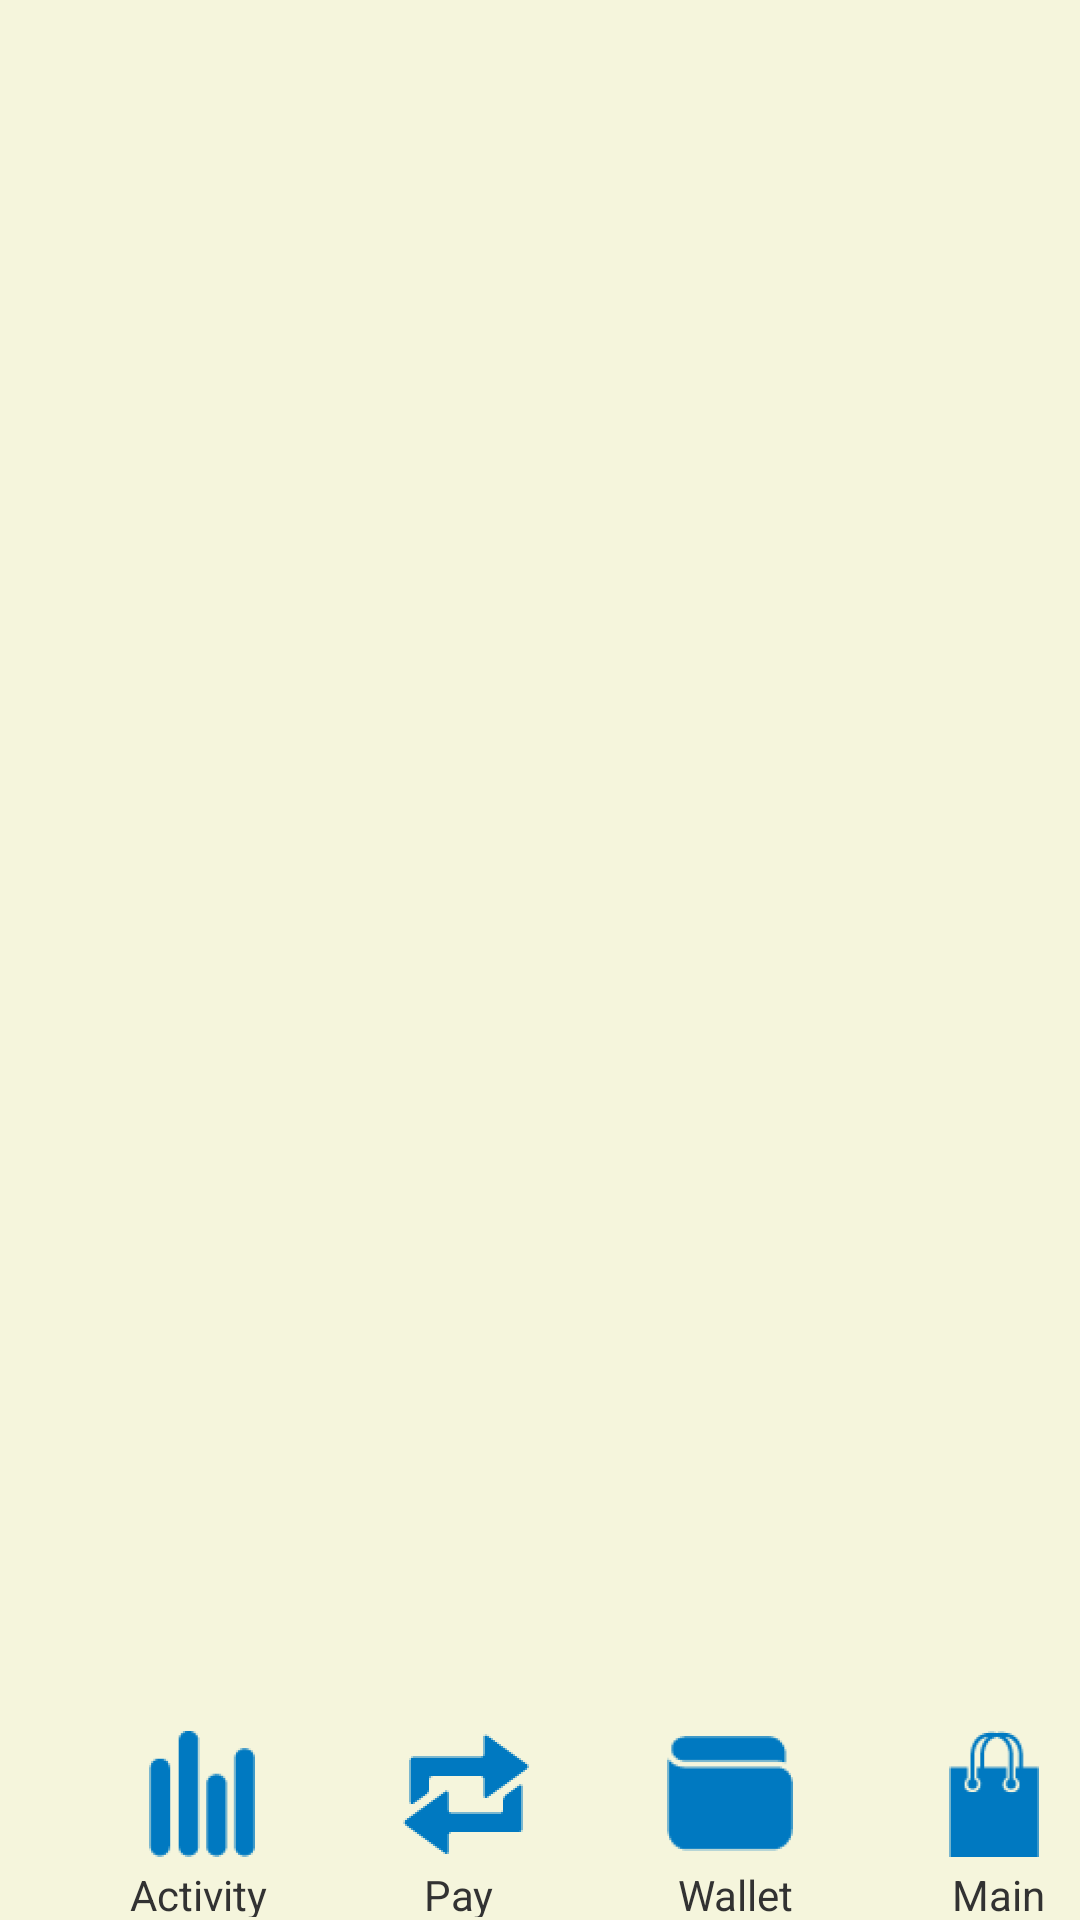

Screen size 1080x1920. Icon name, then its box in pixels as (x1, y1, x2, y2):
transfer: (403, 1734, 529, 1854)
